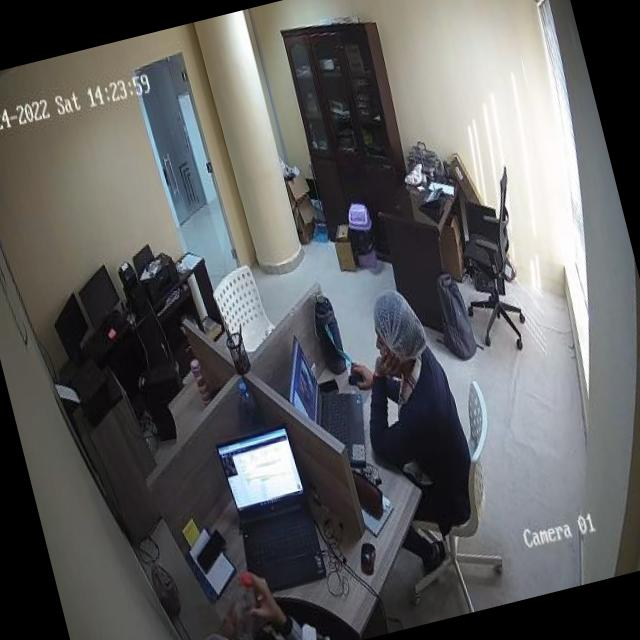hairnet: (368, 284, 431, 363)
